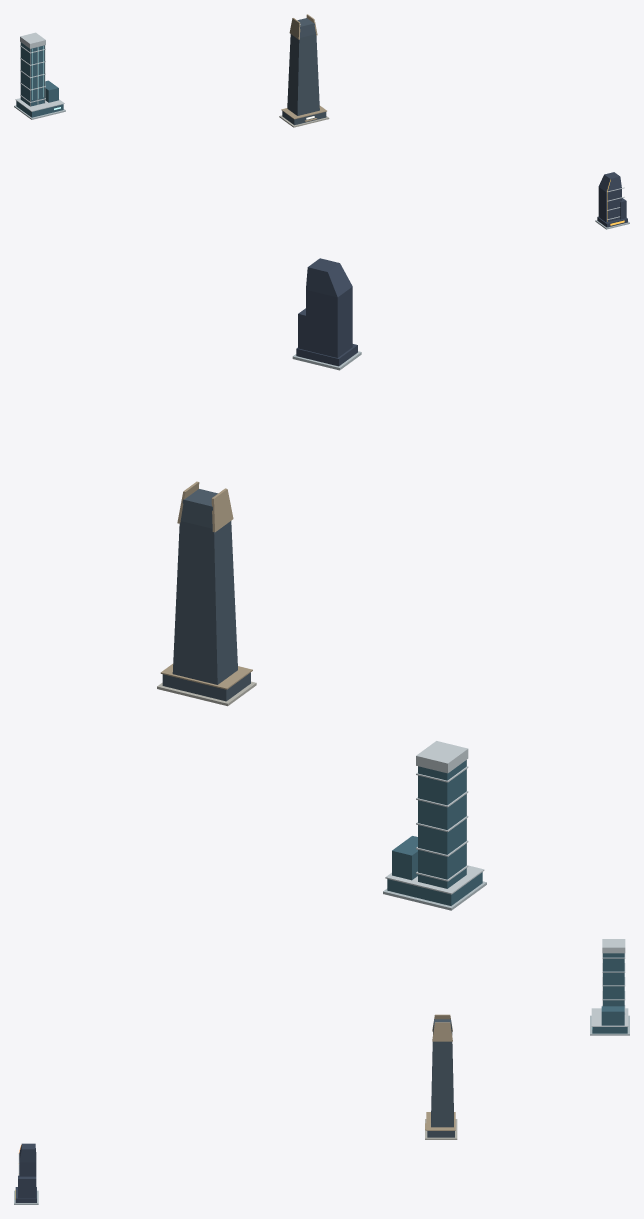
The model's file is Atlantis_Phase4_RivalBlockout.glb.
3 renders of one model, top to bottom at view 1: azimuth 30°, elevation 25°; view 2: azimuth 150°, elevation 25°; view 3: azimuth 270°, elevation 25°, orthographic. The views are drawn at different scales.
Visible parts, largest first — view 1: PallasAI_ComposedTower, NorthwindLabs_TechnicalTower, Flashpoint_VelocityWedge; view 2: PallasAI_ComposedTower, NorthwindLabs_TechnicalTower, Flashpoint_VelocityWedge, NorthwindLabs_Crown, NorthwindLabs_ResearchPodium, PallasAI_Podium, NorthwindLabs_LabWing; view 3: PallasAI_ComposedTower, NorthwindLabs_TechnicalTower, Flashpoint_VelocityWedge, NorthwindLabs_LabWing, Flashpoint_LaunchWing.
Part boxes in pixels (x1,y1,x2,y2): PallasAI_ComposedTower: (287, 18, 319, 115); NorthwindLabs_TechnicalTower: (20, 42, 44, 106); Flashpoint_VelocityWedge: (598, 172, 621, 222); PallasAI_ComposedTower: (172, 489, 237, 684); NorthwindLabs_TechnicalTower: (418, 760, 466, 888); Flashpoint_VelocityWedge: (306, 258, 352, 357); NorthwindLabs_Crown: (416, 741, 468, 773); NorthwindLabs_ResearchPodium: (387, 872, 482, 905); PallasAI_Podium: (162, 672, 250, 701); NorthwindLabs_LabWing: (392, 836, 417, 880); PallasAI_ComposedTower: (431, 1019, 453, 1127); NorthwindLabs_TechnicalTower: (603, 953, 624, 1006); Flashpoint_VelocityWedge: (19, 1143, 36, 1176); NorthwindLabs_LabWing: (601, 1006, 624, 1025); Flashpoint_LaunchWing: (18, 1175, 36, 1198).
Bounding box in the file's own units: 579 × 160 × 802.
